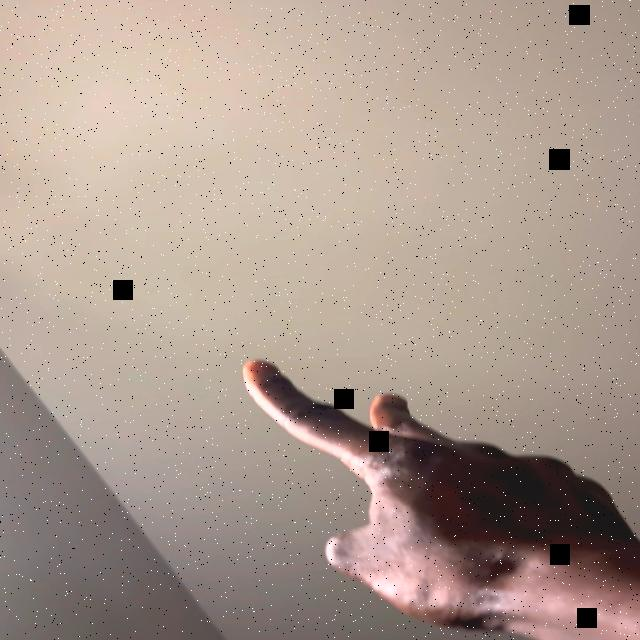Scissors: (239, 357, 637, 635)
